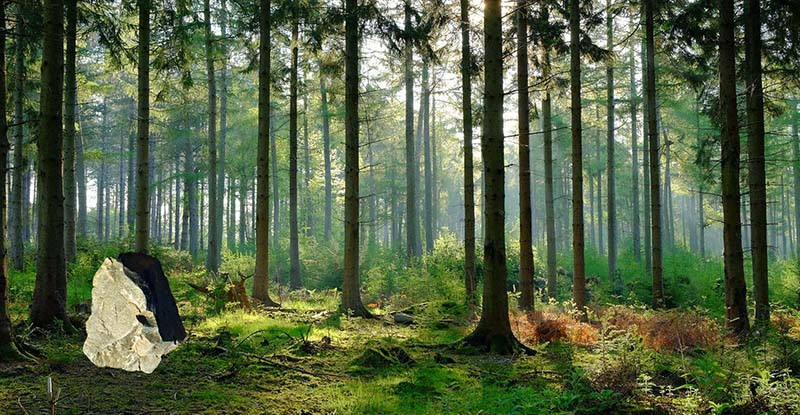Rocks: (75, 248, 196, 376)
